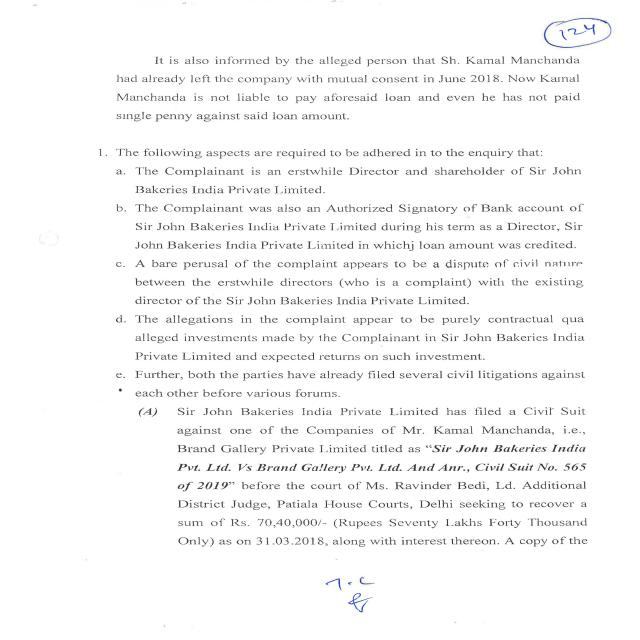page-number: (375, 0, 635, 53)
